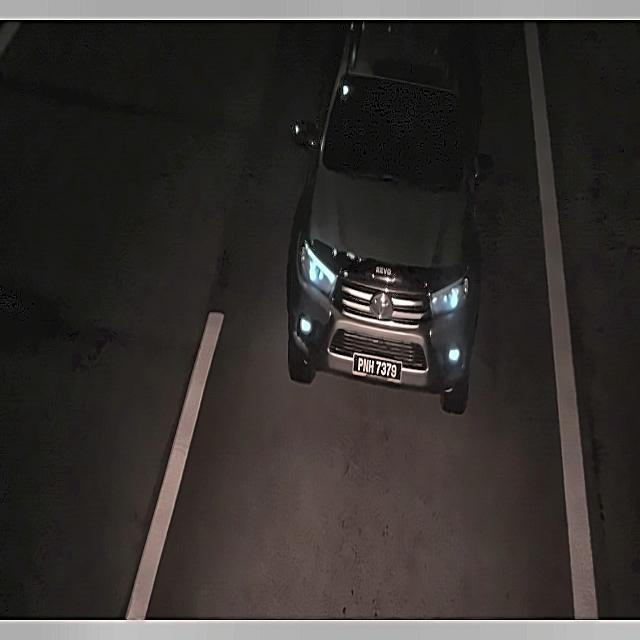car: (348, 352, 404, 384)
